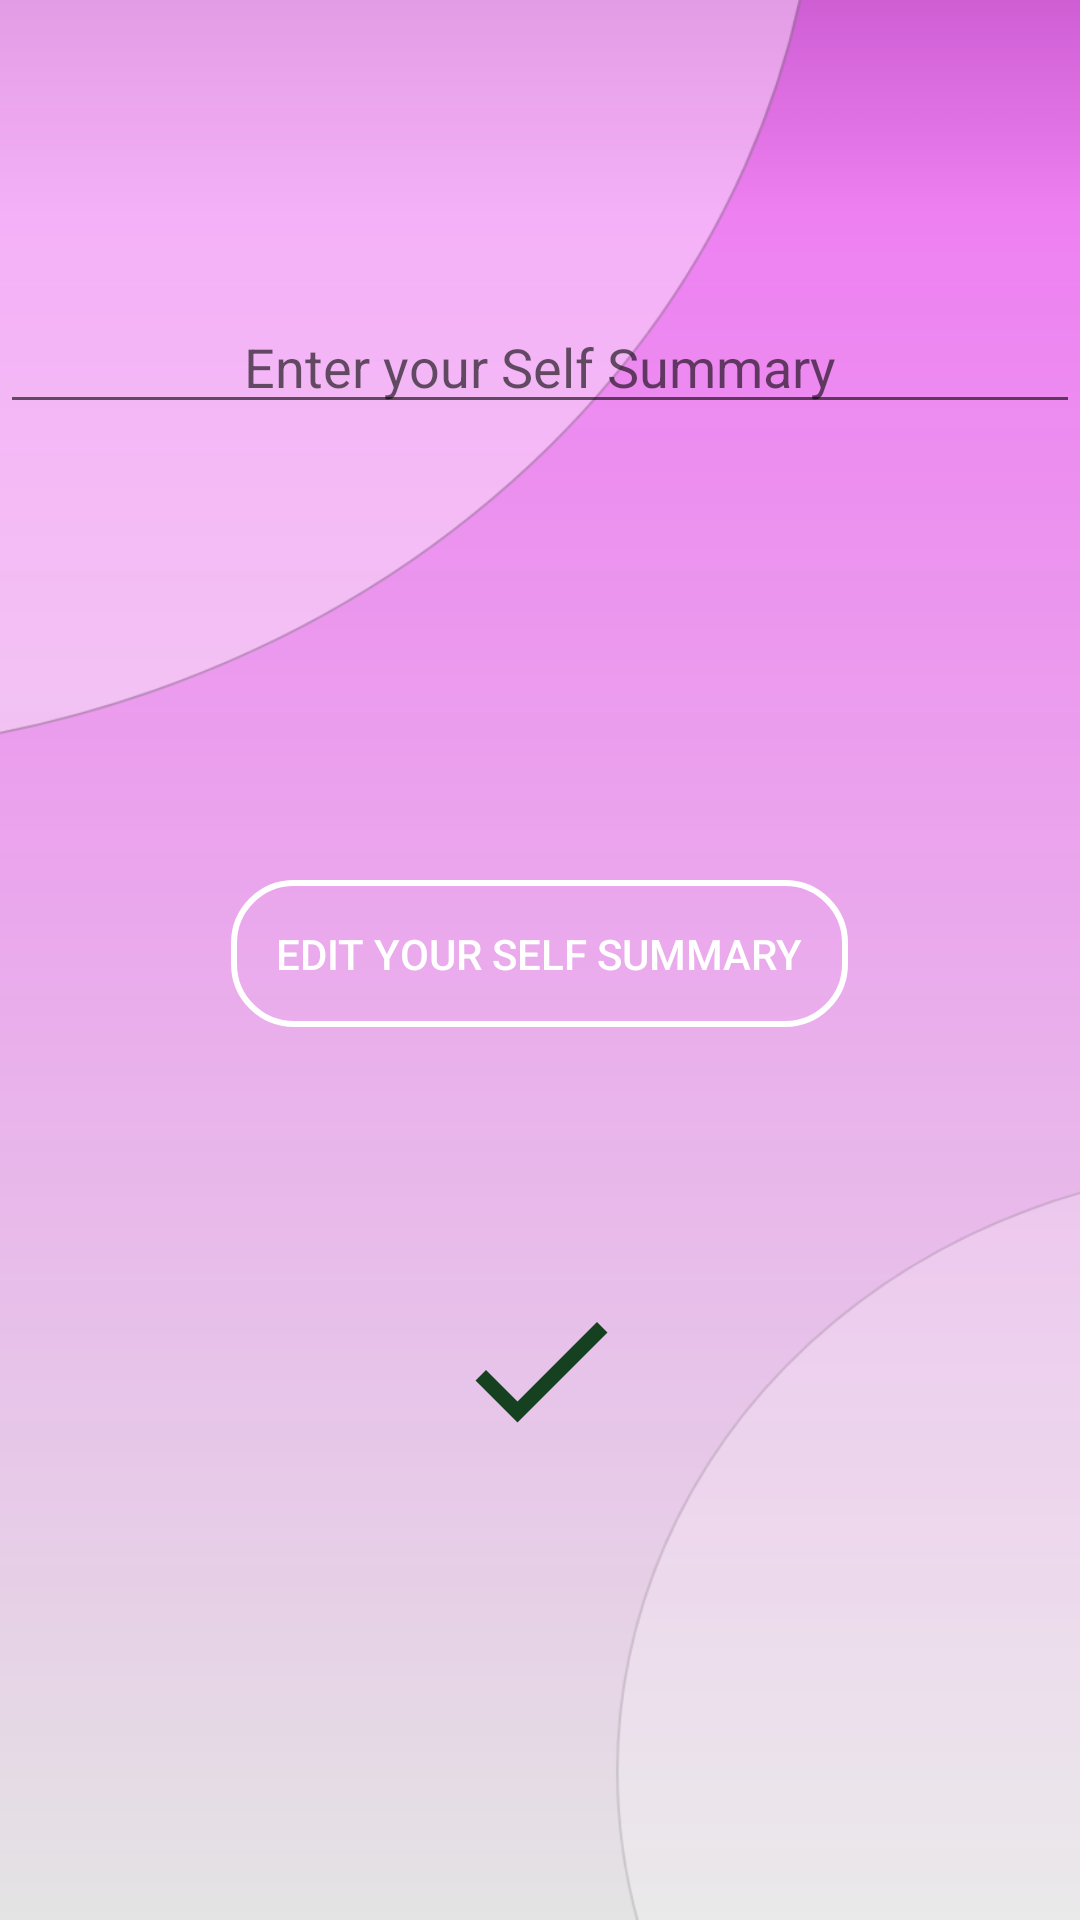

Screen size 1080px×1920px. Icon name, then its center in pixels as (x,y):
done: (541,1372)
